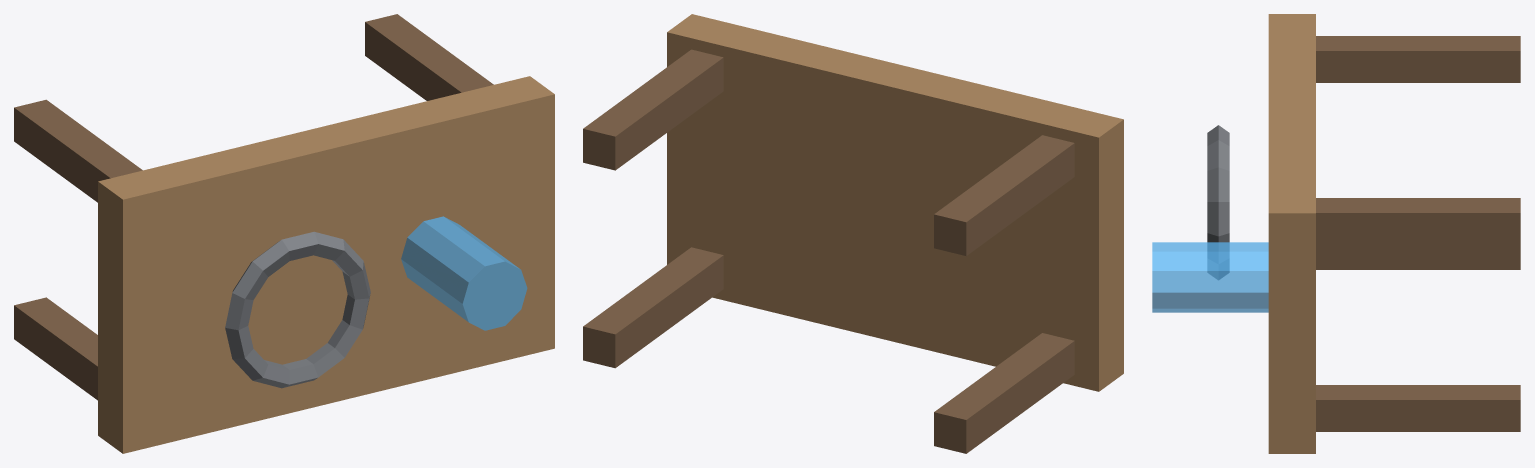
The model's file is 08_engineering_bench.glb.
The picture shows the model from 3 angles, left to right: view 1: azimuth 30°, elevation 25°; view 2: azimuth 150°, elevation 25°; view 3: azimuth 270°, elevation 25°; orthographic projection. The views are drawn at different scales.
Visible parts, largest first — view 1: table_top, gear_a, coil, leg_3, leg_4, leg_1; view 2: table_top, leg_1, leg_2, leg_4, leg_3; view 3: table_top, leg_2, leg_3, leg_4, coil, leg_1, gear_a.
Boxes of the visible parts, left/top/right/bottom form: table_top: left=98, top=76, right=554, bottom=453; gear_a: left=225, top=231, right=370, bottom=388; coil: left=401, top=216, right=527, bottom=330; leg_3: left=14, top=99, right=142, bottom=202; leg_4: left=365, top=14, right=493, bottom=100; leg_1: left=14, top=297, right=97, bottom=400; table_top: left=667, top=14, right=1123, bottom=391; leg_1: left=934, top=333, right=1074, bottom=453; leg_2: left=583, top=247, right=723, bottom=368; leg_4: left=583, top=49, right=723, bottom=170; leg_3: left=934, top=135, right=1074, bottom=255; table_top: left=1268, top=14, right=1315, bottom=453; leg_2: left=1316, top=385, right=1520, bottom=431; leg_3: left=1316, top=36, right=1520, bottom=82; leg_4: left=1316, top=198, right=1520, bottom=244; coil: left=1152, top=242, right=1268, bottom=312; leg_1: left=1316, top=245, right=1520, bottom=269; gear_a: left=1207, top=125, right=1229, bottom=279.
Size of the model in its own units: 1.6 by 0.9 by 1.25.
